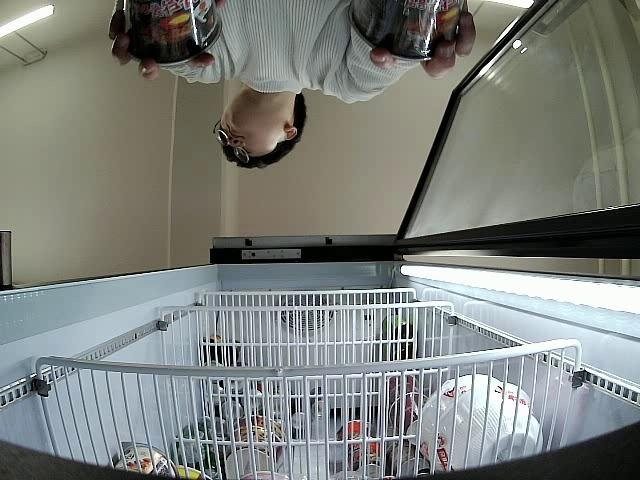00_hand: (102, 0, 217, 74), (371, 8, 474, 75)
08_buldak_S: (343, 0, 464, 56), (124, 0, 222, 66)
